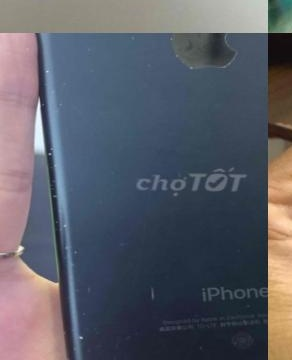scratch: (33, 57, 74, 204), (56, 310, 168, 360), (48, 212, 93, 307), (156, 33, 237, 71), (118, 33, 150, 65), (147, 282, 157, 301)
